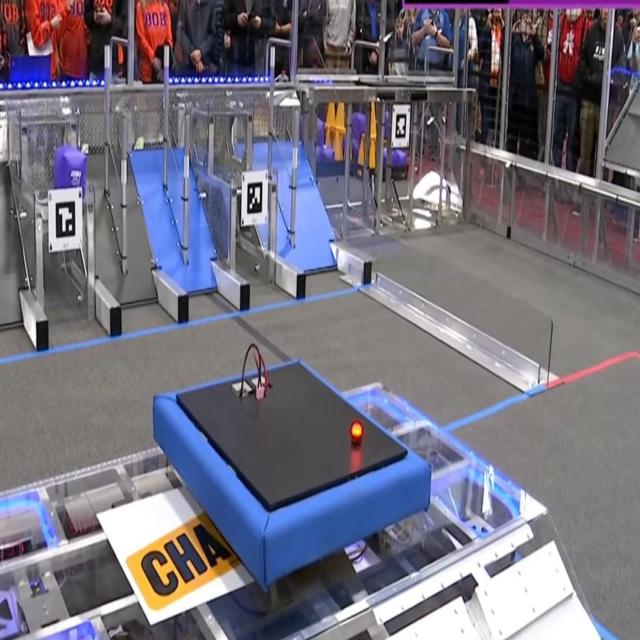frc_cone: (367, 99, 380, 137), (336, 97, 346, 129), (360, 136, 368, 174), (367, 140, 377, 170), (332, 130, 341, 159), (323, 127, 333, 149), (326, 104, 335, 128)
frc_cube: (54, 144, 86, 200), (351, 109, 369, 141), (314, 141, 334, 167), (314, 114, 326, 152), (394, 149, 408, 170), (384, 142, 392, 171), (386, 119, 394, 141), (350, 134, 356, 156)
